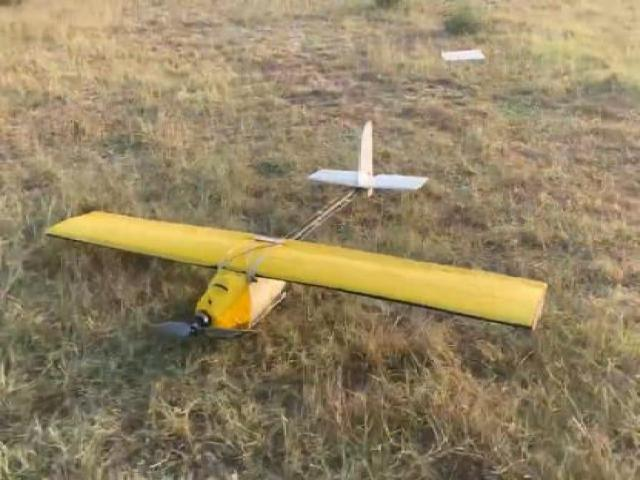uav: (39, 115, 550, 341)
